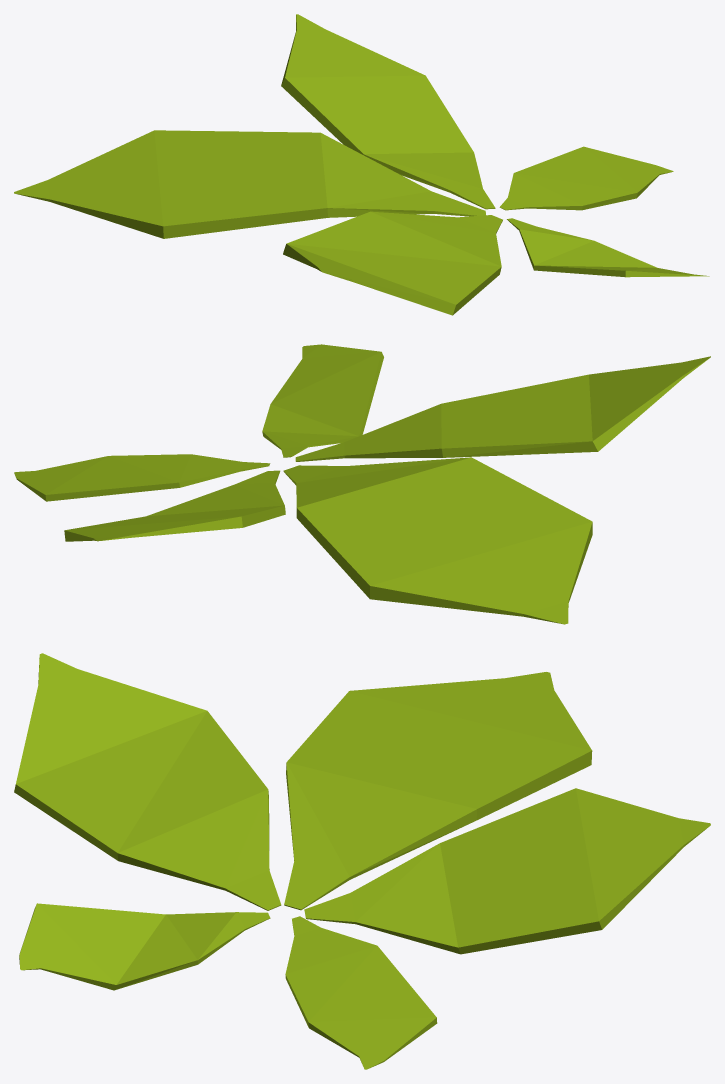
File: Vegetation_Modular_Tree_Foliage_Common_Leaf_06.fbx
3 renders of one model, top to bottom at view 1: azimuth 30°, elevation 25°; view 2: azimuth 150°, elevation 25°; view 3: azimuth 270°, elevation 25°, orthographic. The views are drawn at different scales.
Visible parts, largest first — view 1: Vegetation_Modular_Tree_Foliage_Common_Leaf_06; view 2: Vegetation_Modular_Tree_Foliage_Common_Leaf_06; view 3: Vegetation_Modular_Tree_Foliage_Common_Leaf_06.
Part boxes in pixels (left/top/right/bottom): Vegetation_Modular_Tree_Foliage_Common_Leaf_06: left=14, top=14, right=709, bottom=315; Vegetation_Modular_Tree_Foliage_Common_Leaf_06: left=14, top=344, right=710, bottom=624; Vegetation_Modular_Tree_Foliage_Common_Leaf_06: left=14, top=653, right=710, bottom=1069.
Size of the model in its own units: 1490 by 298 by 1344.
